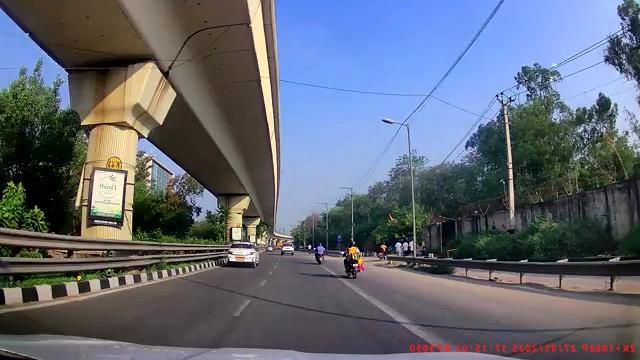motorcycle_with_helmet: (339, 240, 366, 281)
